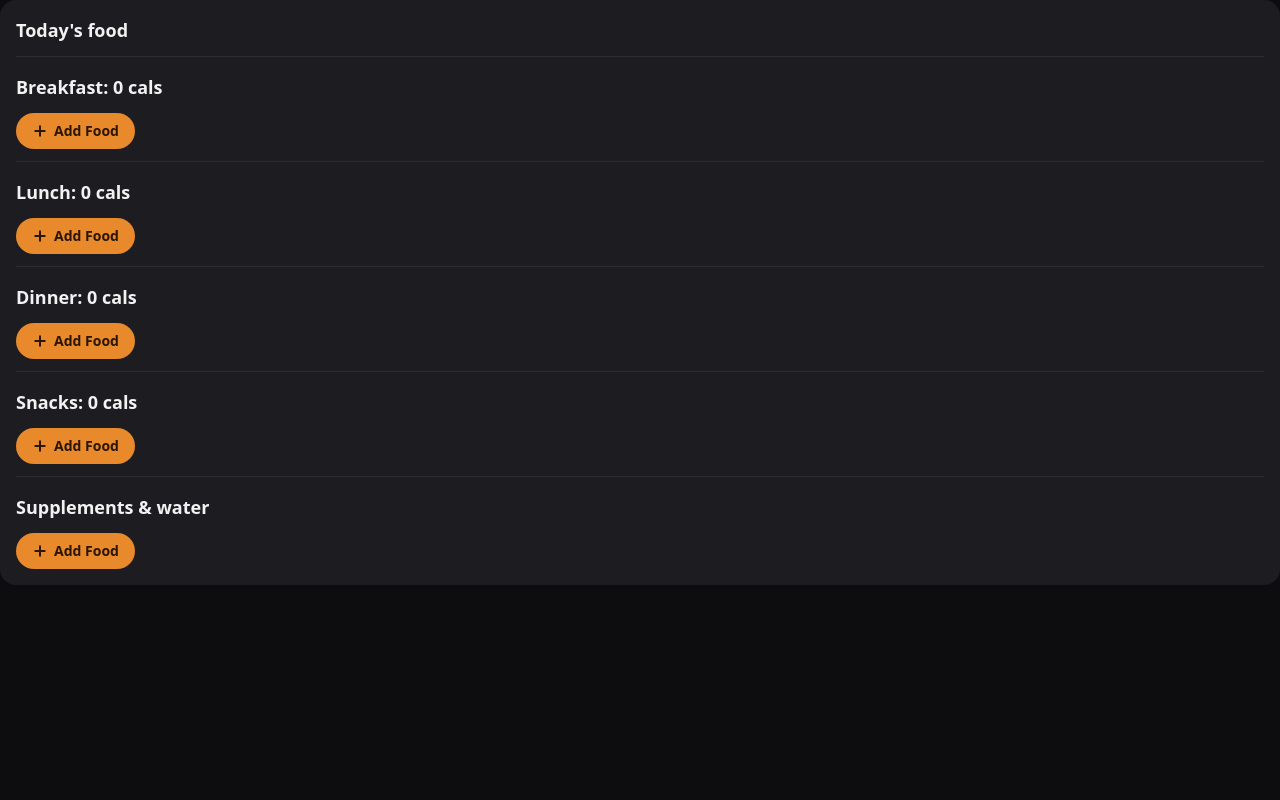
Test case: Add food › Did you mean: a close spelling shows under few results, and tapping it searches for it
Step 1. Click the button "Add Food" below "Snacks: 0 cals" → {"x": 75, "y": 446}, box [16,428,135,464]
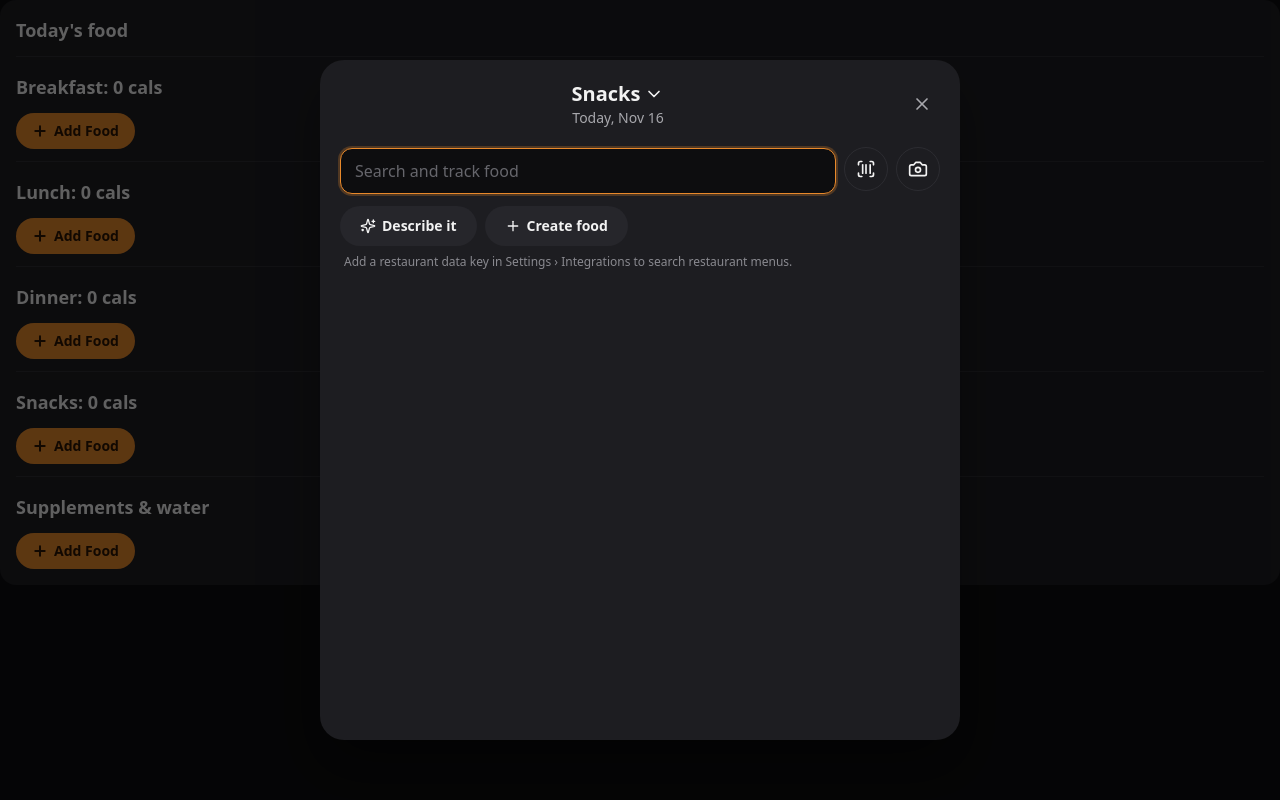
Step 2. Type "bananna" into the search field named "Search foods" → {"x": 588, "y": 171}, box [340,148,836,194]
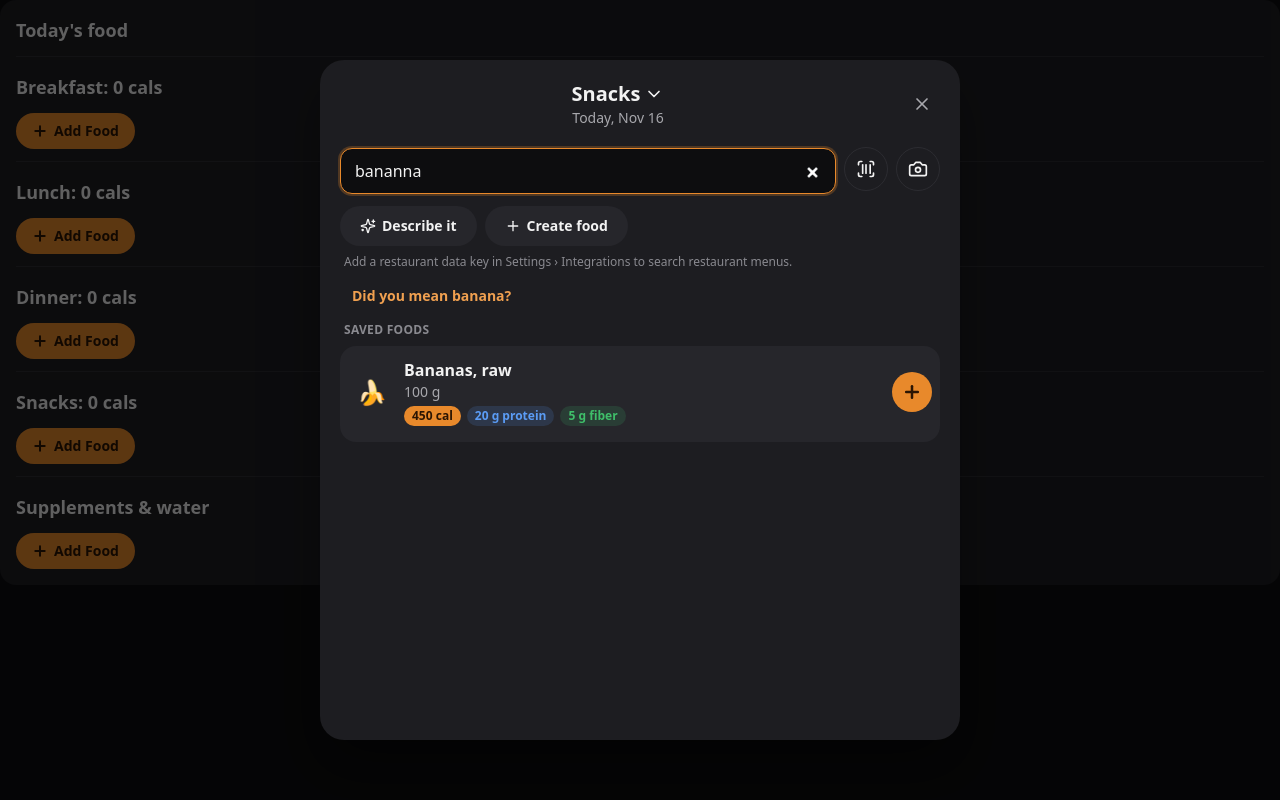
Step 3. Click the button "Did you mean banana?" → {"x": 432, "y": 296}, box [344,282,519,310]
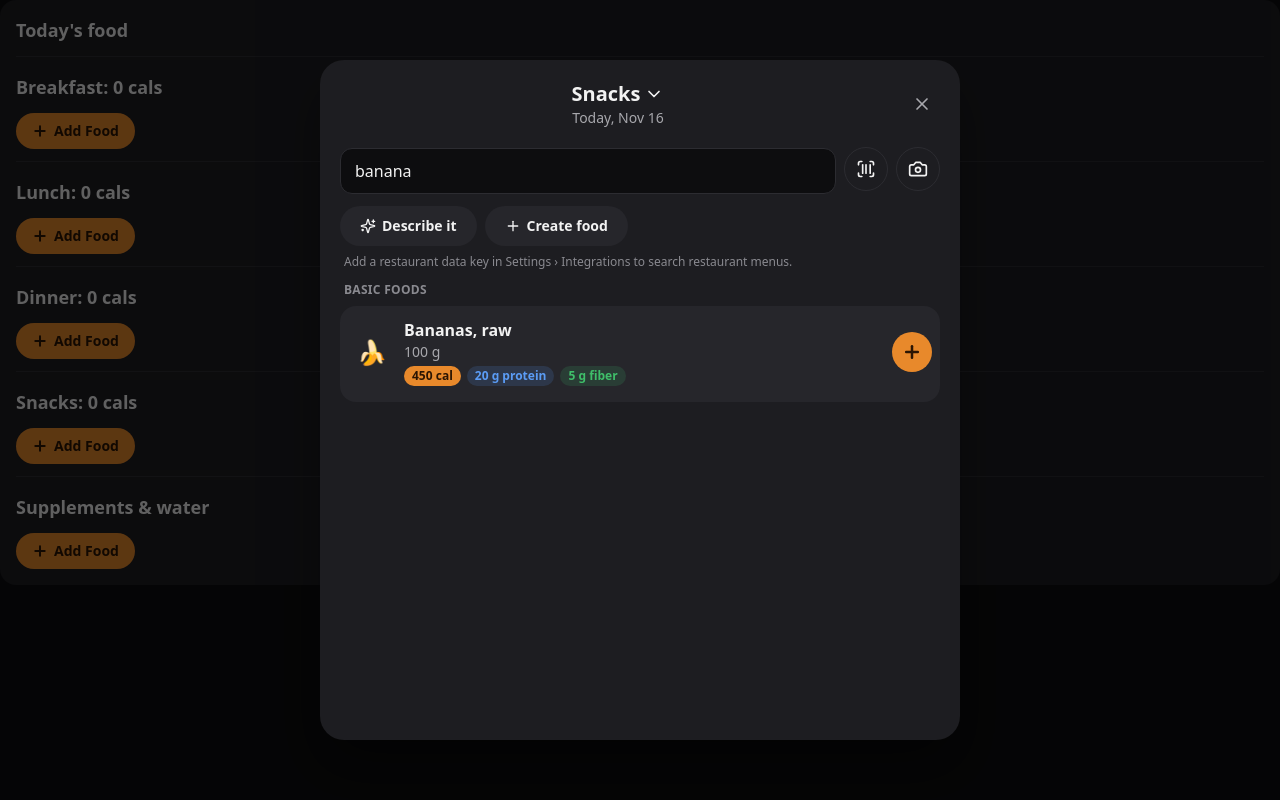
Result: the search field named "Search foods" holds "banana" at [340,148,836,194]
Result: the heading "Basic foods" is shown at [344,281,427,298]
Result: the button "Did you mean" is gone
